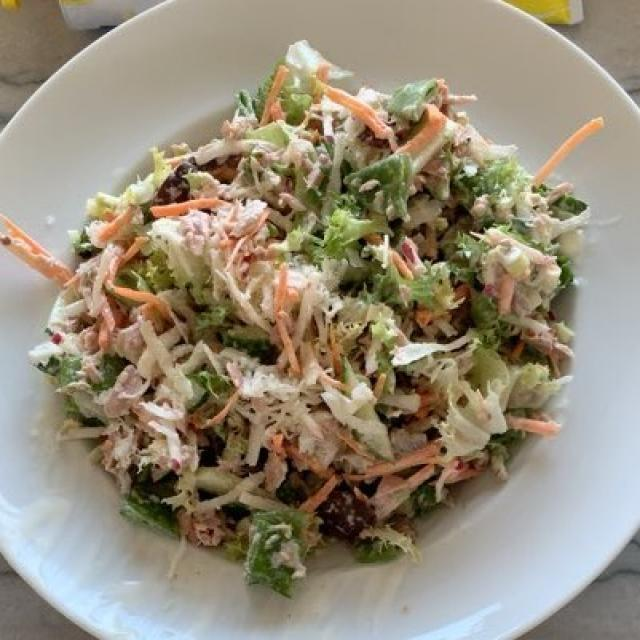salad: (9, 480, 414, 632)
